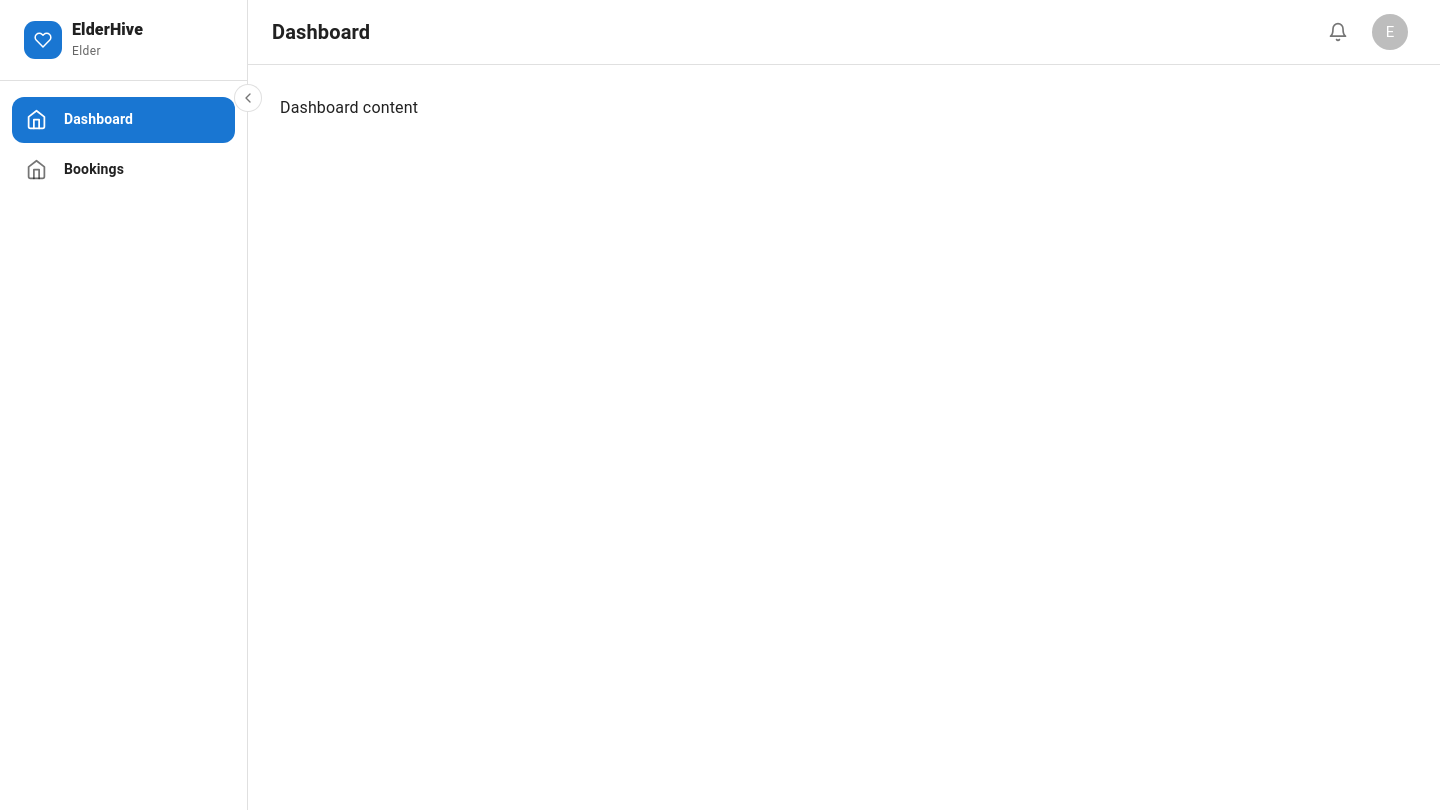
Test: DashboardLayout › Account Settings navigates to <rolePrefix>/account-settings, derived from the current URL
This screenshot has width=1440, height=810.
Click the button named "Open account menu" at coordinates (1390, 32), box [1364, 6, 1416, 58]
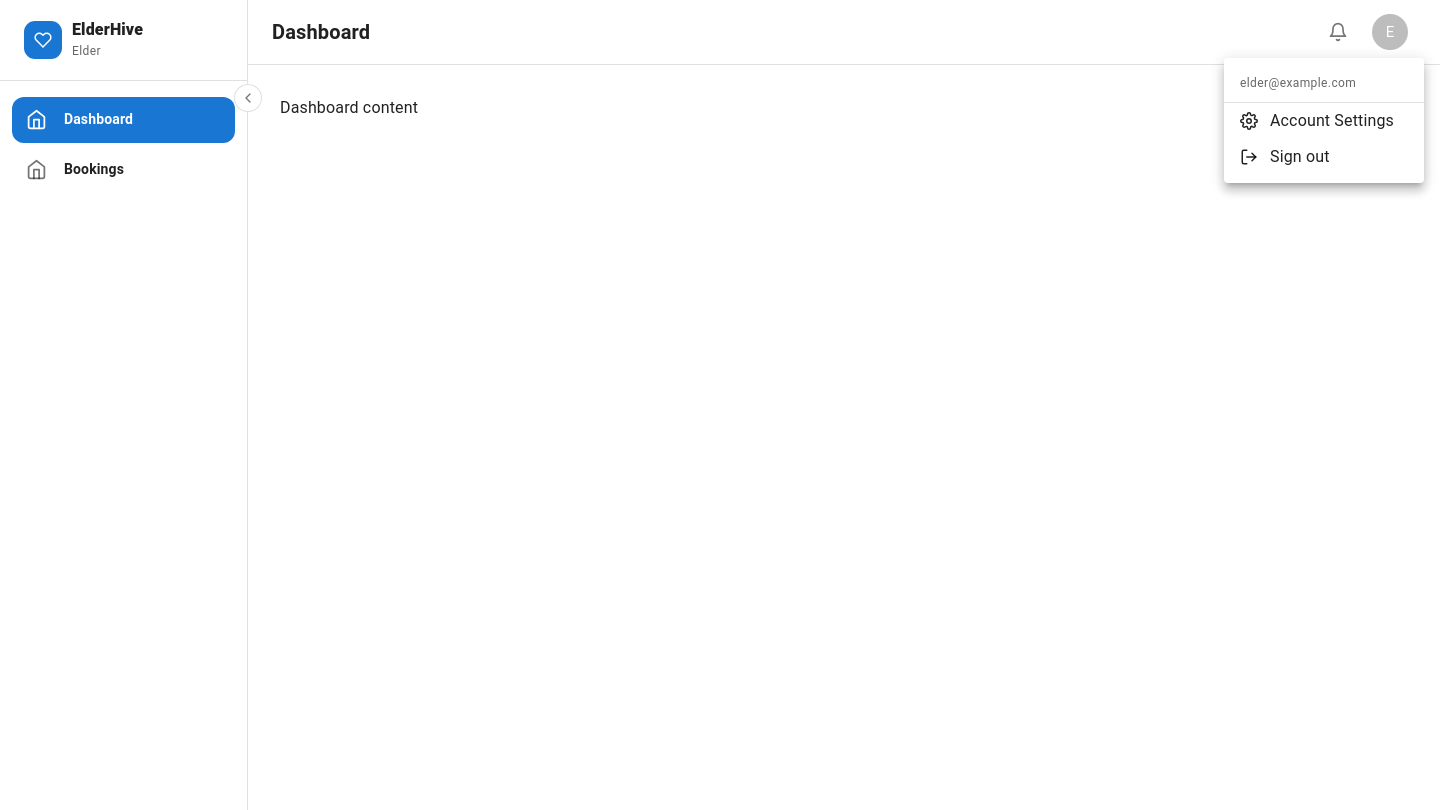
Click the menu item "Account Settings" at coordinates (1317, 120), box [1240, 111, 1394, 130]
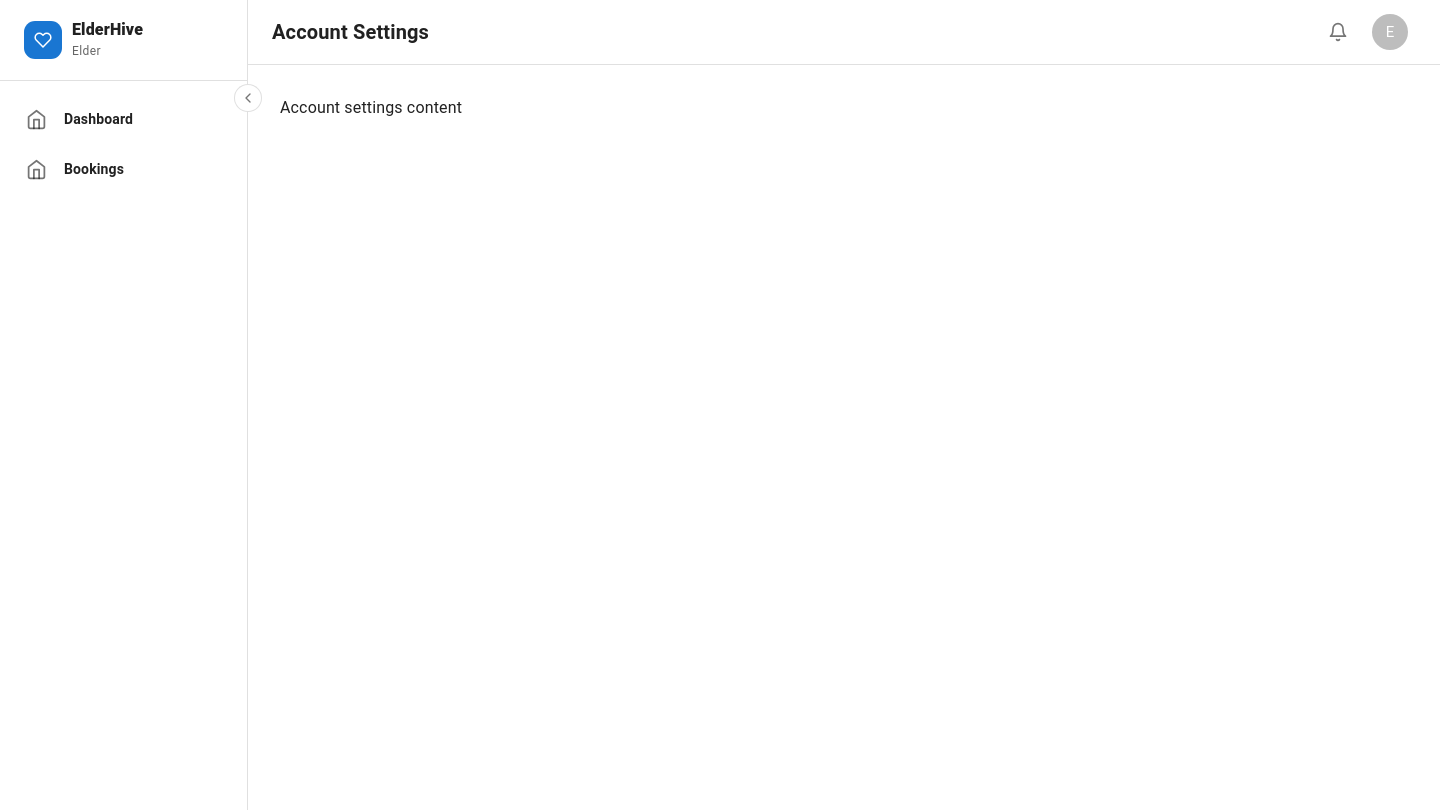
Expected: the text "Account settings content" is shown, [280, 98, 462, 117]
